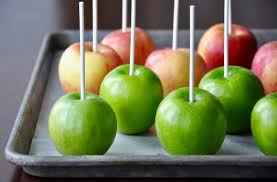apple: (100, 66, 164, 132), (161, 90, 224, 153), (50, 94, 116, 153), (198, 70, 260, 128), (58, 42, 118, 100), (144, 48, 207, 94), (200, 24, 258, 68), (102, 28, 157, 67), (253, 95, 277, 154)
